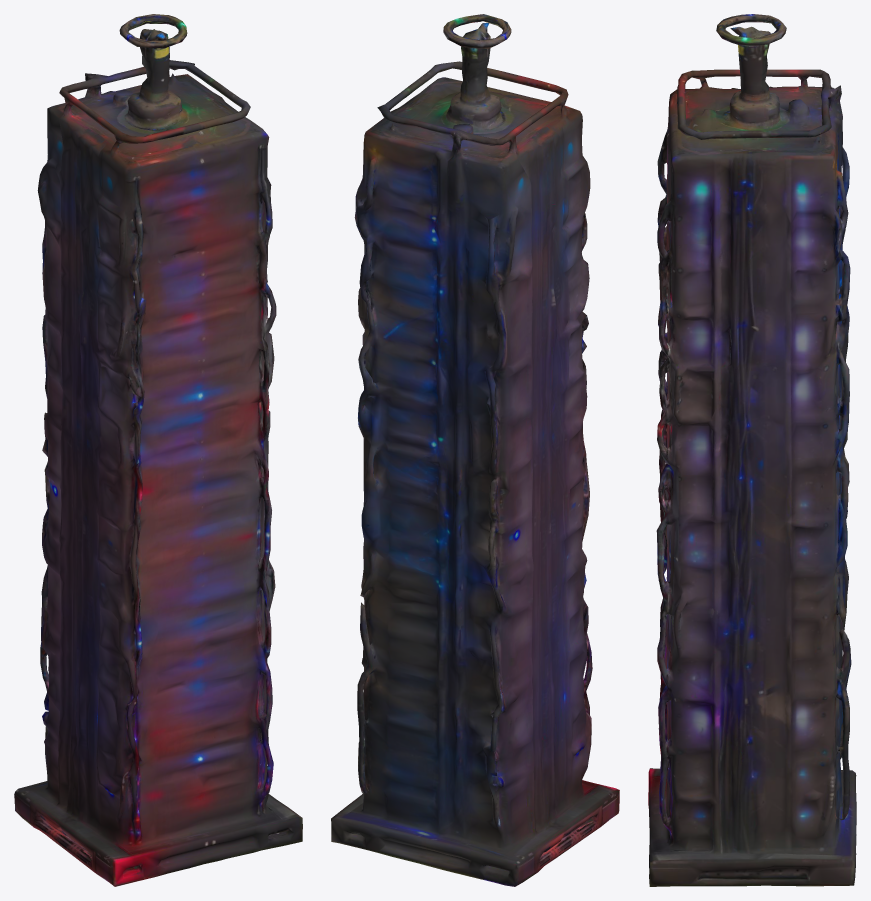
3 renders of one model, left to right at view 1: azimuth 30°, elevation 25°; view 2: azimuth 150°, elevation 25°; view 3: azimuth 270°, elevation 25°, orthographic.
Visible parts, largest first — view 1: Mesh1.0; view 2: Mesh1.0; view 3: Mesh1.0.
Boxes of the visible parts, x1,y1,x2,y2 form: Mesh1.0: [14, 14, 302, 886]; Mesh1.0: [331, 14, 619, 886]; Mesh1.0: [648, 14, 856, 886].
Size of the model in its own units: 49.99 by 200 by 46.55.
Materials: 1 (1 with a texture image).
